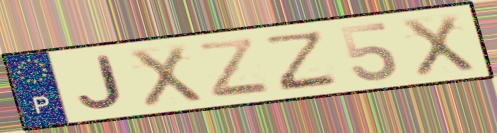5: (338, 20, 401, 83)
J: (75, 53, 126, 111)
X: (126, 42, 207, 109), (399, 12, 479, 79)
Z: (194, 36, 274, 100), (265, 28, 339, 93)
